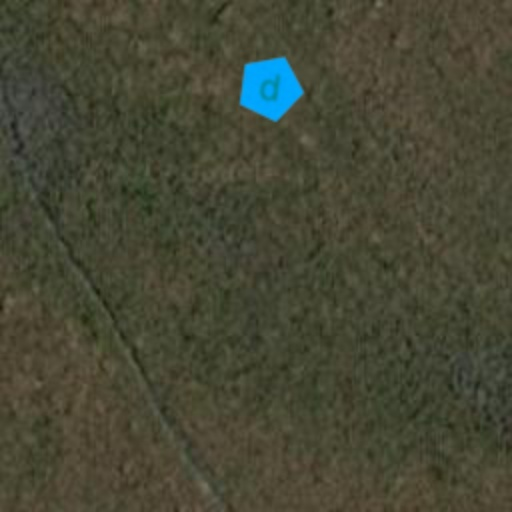pentagon: (230, 48, 310, 128)
